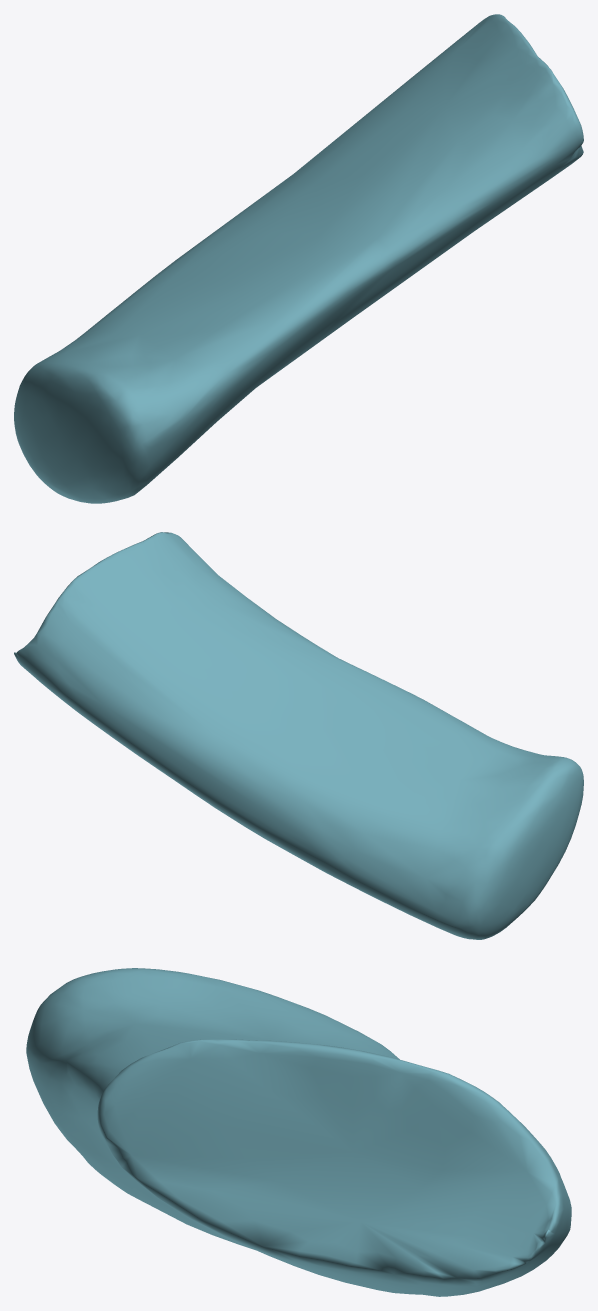
3 renders of one model, top to bottom at view 1: azimuth 30°, elevation 25°; view 2: azimuth 150°, elevation 25°; view 3: azimuth 270°, elevation 25°, orthographic. The views are drawn at different scales.
Visible parts, largest first — view 1: 左侧第三肋软骨; view 2: 左侧第三肋软骨; view 3: 左侧第三肋软骨.
Boxes of the visible parts, bbox=[...] form: 左侧第三肋软骨: bbox=[14, 14, 583, 503]; 左侧第三肋软骨: bbox=[14, 532, 583, 939]; 左侧第三肋软骨: bbox=[26, 968, 571, 1296].
Bounding box in the file's own units: 0.055 × 0.0329 × 0.0285.
